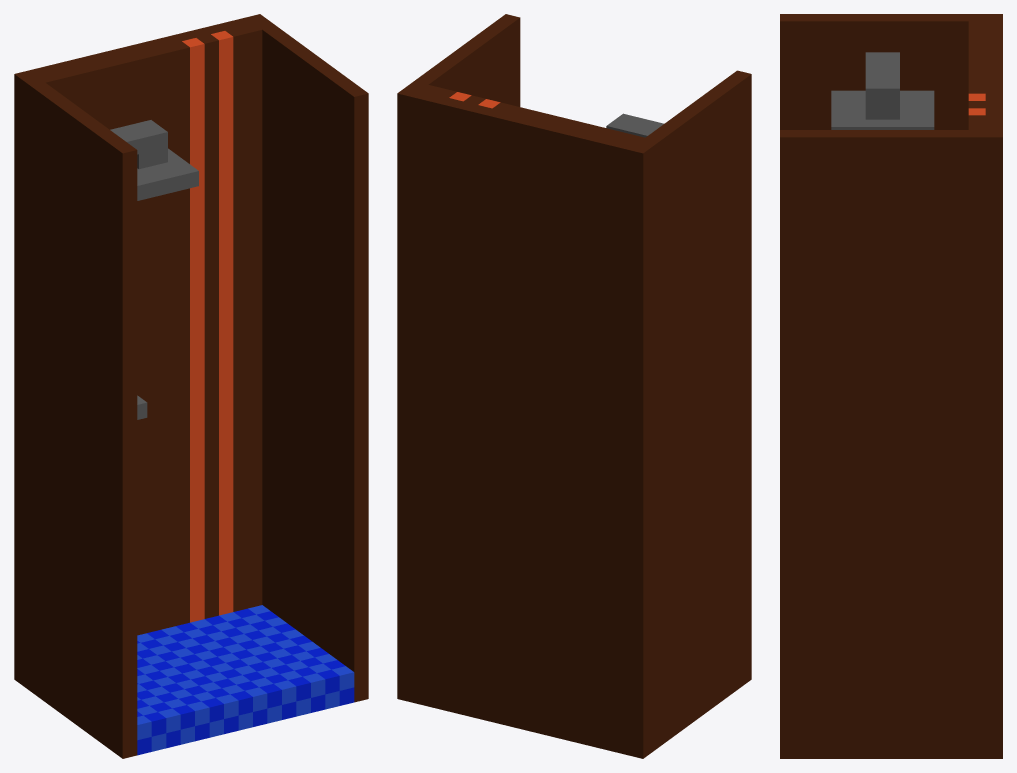
Rendered from teenshower.fbx.
3 views of the same model, side by side, from view 1: azimuth 30°, elevation 25°; view 2: azimuth 150°, elevation 25°; view 3: azimuth 270°, elevation 25° (orthographic). The views are drawn at different scales.
Visible parts, largest first — view 1: Object001; view 2: Object001; view 3: Object001.
Part boxes in pixels (box(x1,y1,x2,y2)): Object001: box(14, 14, 368, 758); Object001: box(397, 14, 751, 758); Object001: box(780, 14, 1002, 758).
Size of the model in its own units: 1.7 by 4 by 1.3.
